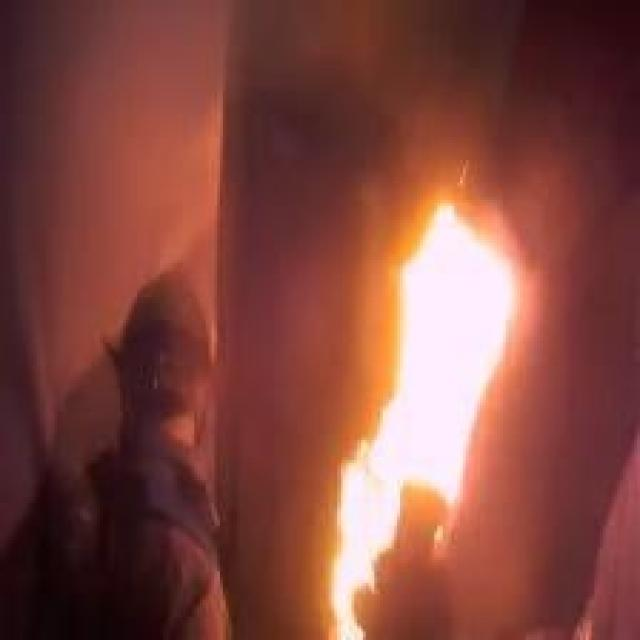fire: (353, 197, 510, 474)
